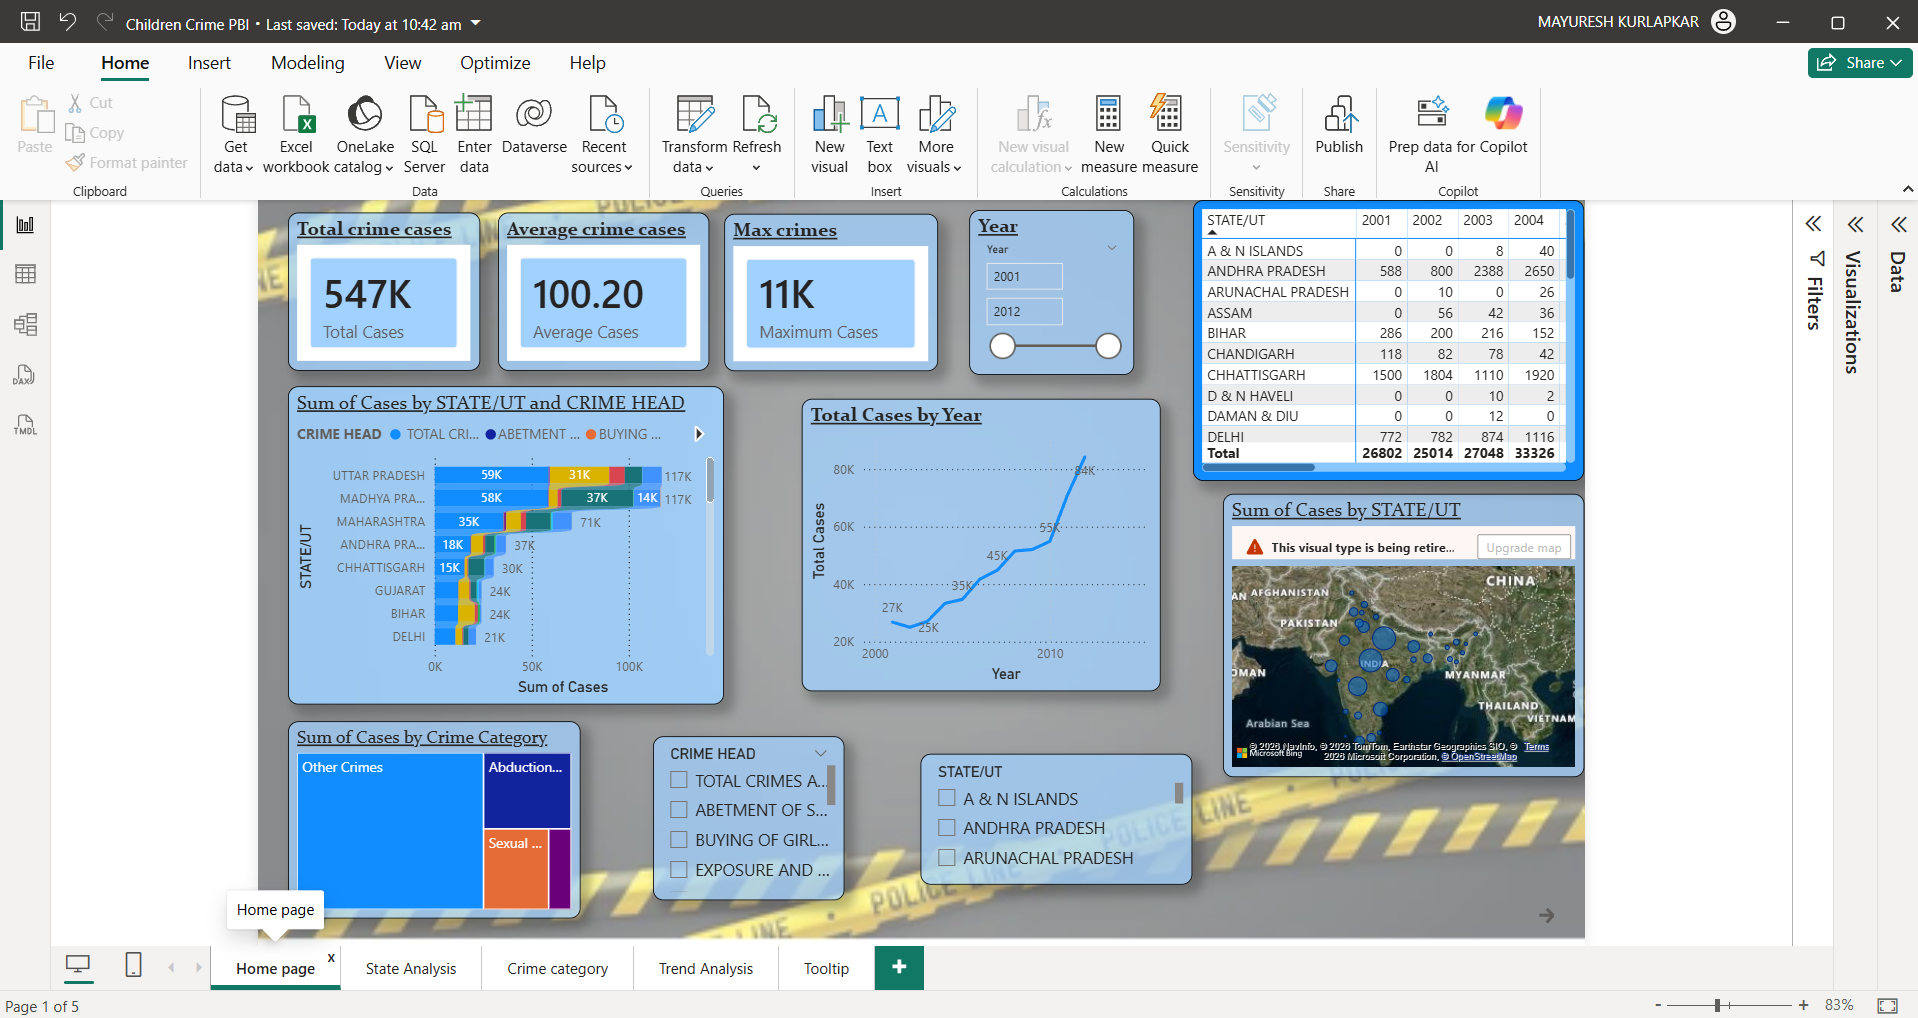

Layout of this report page (visuals, bound fields, positions):
{"tool":"powerbi","page":{"name":"Home page","canvas":[1280,720],"ordinal":0},"visuals":[{"type":"cardVisual","title":"Total crime cases","fields":{"Data":["in.Total Cases"]},"box":[29.3,12.2,185.9,152.9],"z":0},{"type":"cardVisual","title":"Max crimes","fields":{"Data":["in.Maximum Cases"]},"box":[450,13.5,206.7,151.6],"z":1000},{"type":"cardVisual","title":"Average crime cases","fields":{"Data":["in.Average Cases"]},"box":[231.1,12.2,204.2,152.9],"z":2000},{"type":"lineChart","fields":{"Category":["in.Year"],"Y":["in.Total Cases"]},"box":[524.6,192,346.1,282.5],"z":3000},{"type":"barChart","fields":{"Y":["Sum(in.Cases)"],"Category":["in.STATE/UT"],"Series":["in.CRIME HEAD"]},"box":[29.3,179.8,420.7,306.9],"z":4000},{"type":"map","fields":{"Category":["in.STATE/UT"],"Size":["Sum(in.Cases)"]},"box":[931.4,283.5,348.7,273.9],"z":5000},{"type":"pivotTable","fields":{"Rows":["in.STATE/UT"],"Columns":["in.Year"],"Values":["Sum(in.Cases)"]},"box":[902.5,0,377.9,271.5],"z":6000},{"type":"treemap","fields":{"Group":["in.Crime Category"],"Values":["Sum(in.Cases)"]},"box":[29.3,502.6,282.5,190.8],"z":7000},{"type":"slicer","title":"Year","fields":{"Values":["in.Year"]},"box":[686.5,9.7,159.3,159.3],"z":8000},{"type":"slicer","fields":{"Values":["in.CRIME HEAD"]},"box":[381.2,517.5,185,158.8],"z":9000},{"type":"slicer","fields":{"Values":["in.STATE/UT"]},"box":[640,535,262.5,126.2],"z":10000},{"type":"actionButton","box":[1231.4,670.1,44,40.4],"z":10001}]}

Visuals, with their boxes on the page's 1280x720 design canvas (x1, y1, x2, y2). These are canvas units, not pixel positions in the 1918x1018 screenshot, which may show the page scaled, cropped or inside an application window:
"Total crime cases" cardVisual: (left=29, top=12, right=215, bottom=165)
"Max crimes" cardVisual: (left=450, top=14, right=657, bottom=165)
"Average crime cases" cardVisual: (left=231, top=12, right=435, bottom=165)
lineChart - in.Year x in.Total Cases: (left=525, top=192, right=871, bottom=474)
barChart - Sum(in.Cases) x in.STATE/UT: (left=29, top=180, right=450, bottom=487)
map - in.STATE/UT x Sum(in.Cases): (left=931, top=284, right=1280, bottom=557)
pivotTable - in.STATE/UT x in.Year: (left=902, top=0, right=1280, bottom=272)
treemap - in.Crime Category x Sum(in.Cases): (left=29, top=503, right=312, bottom=693)
"Year" slicer: (left=686, top=10, right=846, bottom=169)
slicer - in.CRIME HEAD: (left=381, top=518, right=566, bottom=676)
slicer - in.STATE/UT: (left=640, top=535, right=902, bottom=661)
actionButton: (left=1231, top=670, right=1275, bottom=710)
